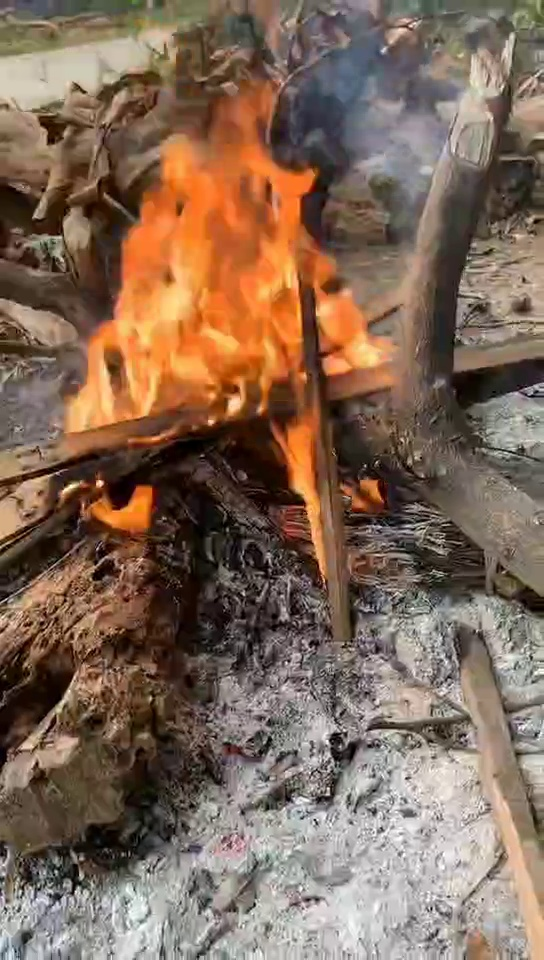fire: (78, 81, 366, 438)
